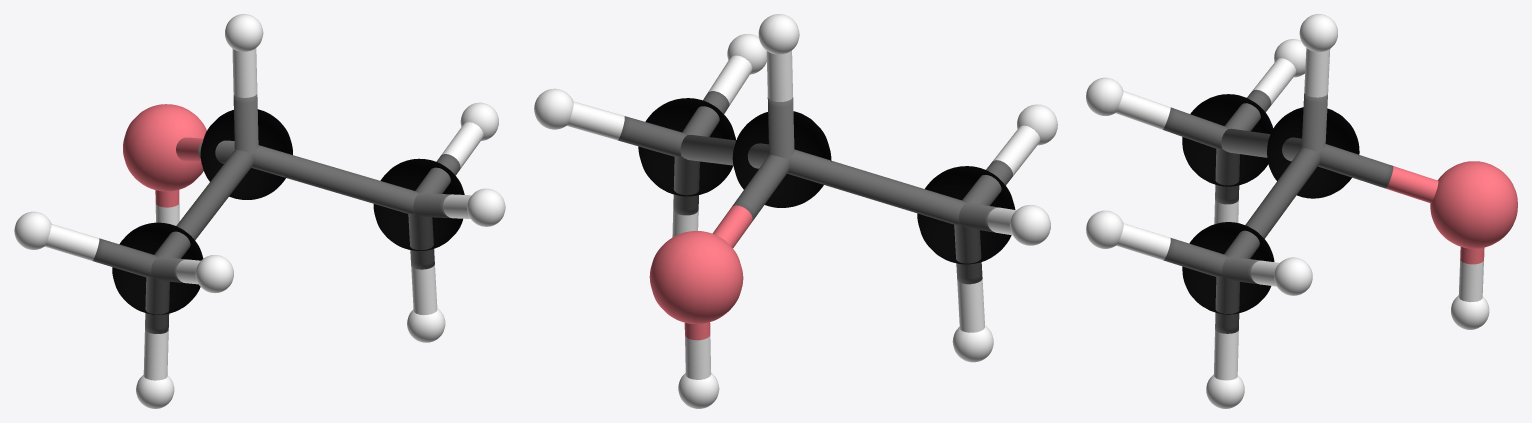
Rendered from propan-2-ol.glb.
The picture shows the model from 3 angles, left to right: view 1: azimuth 30°, elevation 25°; view 2: azimuth 150°, elevation 25°; view 3: azimuth 270°, elevation 25°; orthographic projection. The views are drawn at different scales.
Parts seen in each view (by area): view 1: Carbon_ball.003; view 2: Carbon_ball.003; view 3: Carbon_ball.003.
Part boxes in pixels (x1,y1,x2,y2): Carbon_ball.003: (14, 14, 505, 408); Carbon_ball.003: (534, 14, 1057, 408); Carbon_ball.003: (1086, 14, 1517, 408).
Size of the model in its own units: 4.62 by 2.99 by 3.6.
